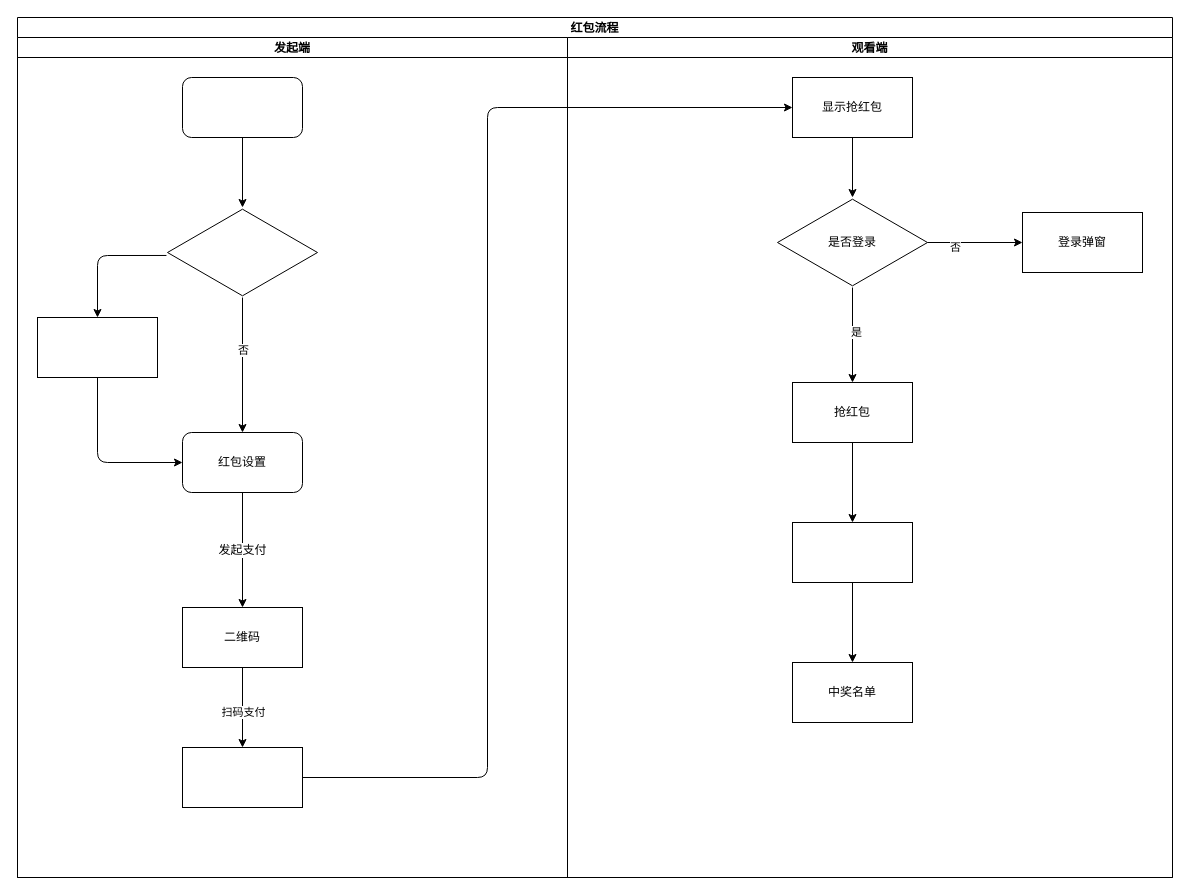
Some shapes in this 1190 by 895 pixel diagram are drawn without their labels. The shapes that lost their labels are listed below. From the top down, each one's centre as x and y in pixels, then its label:
(x=242, y=107): 发起红包
(x=242, y=252): 上一轮红包是否有剩余
(x=97, y=347): 提示弹窗
(x=852, y=552): 抢到余额/未抢到
(x=242, y=777): 支付完成
